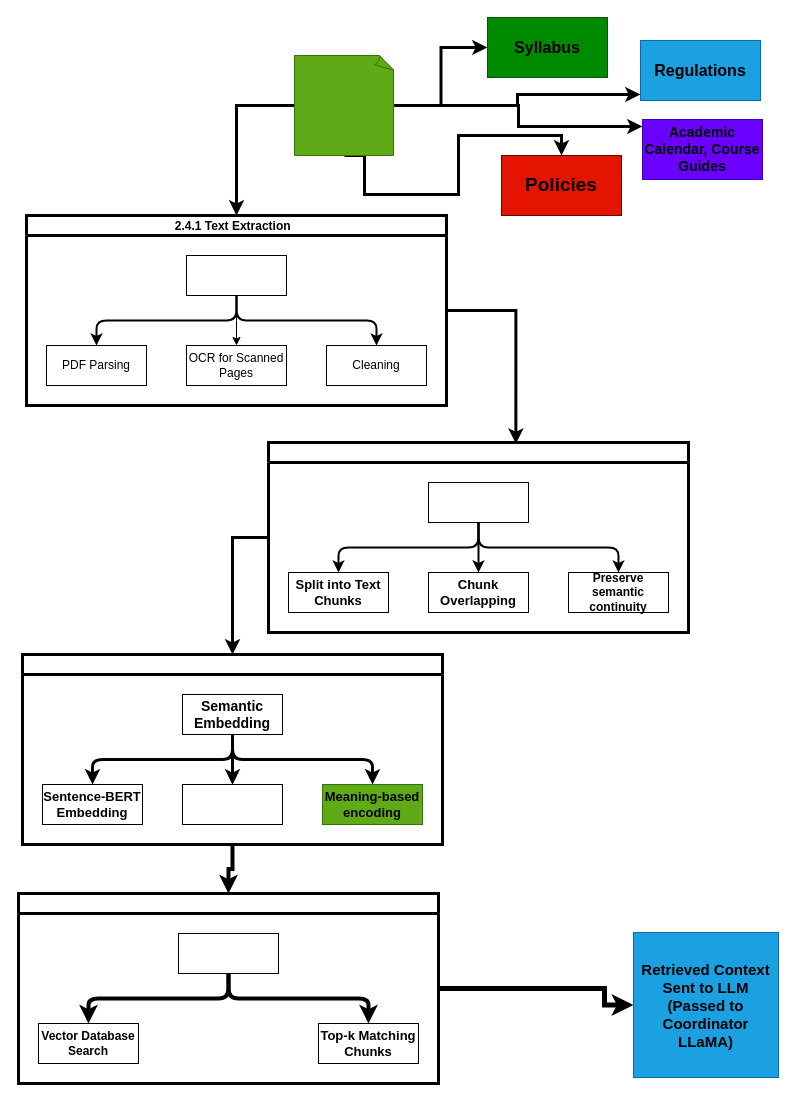
Image size: 796x1102. Some labels were removed from this diagram. The shapes that lost their labels are listed below. From the top down, each one's box as (x1, y1, x2, y2) in pixels, then its label:
(294, 54, 394, 156): PDF / Document Upload
(186, 254, 286, 296): Extraction
(428, 482, 528, 522): Chunking
(266, 440, 690, 634): 2.4.2 Chunking Mechanism
(20, 652, 444, 846): 2.4.3 Semantic Embeddings
(182, 784, 282, 824): Vector Representation
(178, 932, 278, 974): Similarity Retrieval
(16, 892, 440, 1084): 2.4.4 Similarity Retrieval
